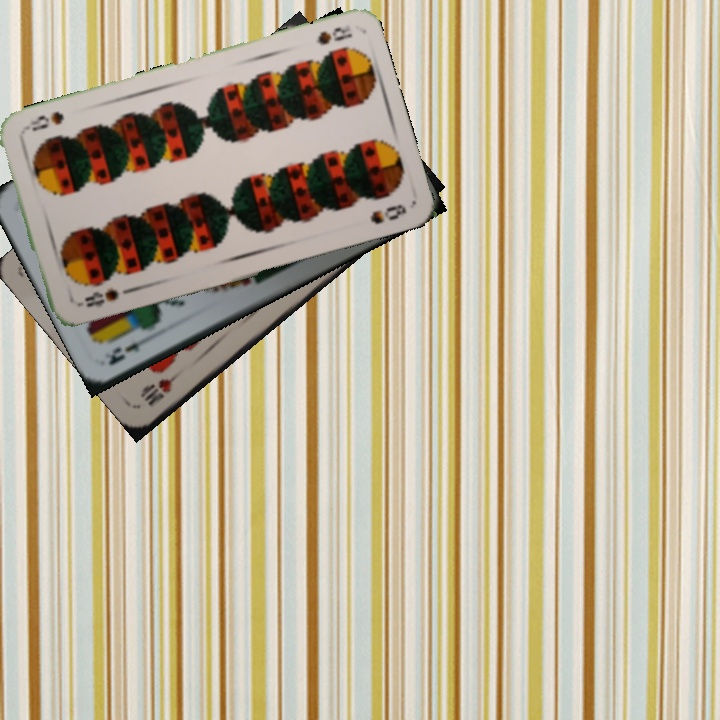EK: (100, 331, 156, 368)
H10: (137, 364, 186, 409)
S8: (73, 284, 121, 310), (311, 20, 355, 48)
